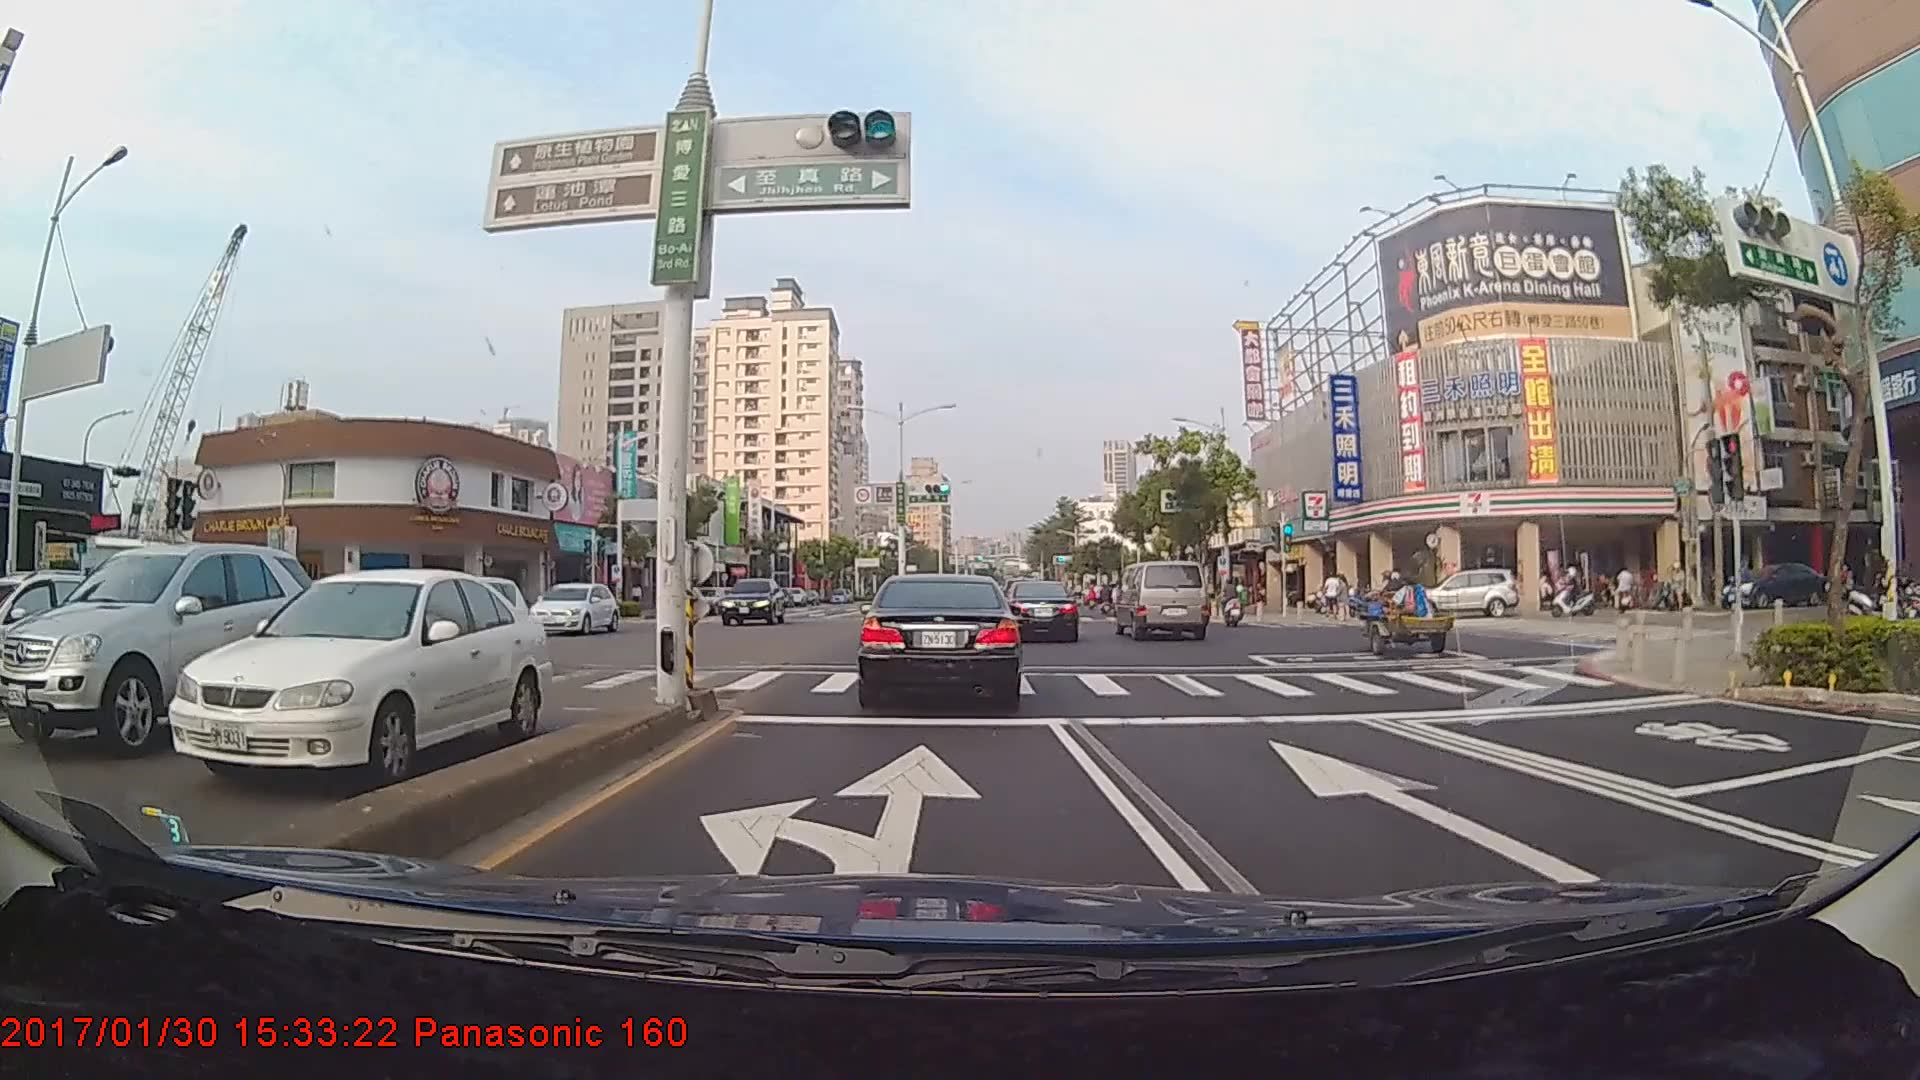pedestrian: (1323, 570, 1343, 620)
rider: (1545, 561, 1604, 623), (1213, 578, 1250, 631)
vehicle: (152, 561, 524, 798), (16, 537, 310, 749), (859, 570, 1020, 704), (0, 563, 115, 706), (1116, 561, 1210, 641), (1404, 569, 1519, 619), (525, 580, 616, 636), (1006, 581, 1079, 642), (718, 578, 785, 627)
